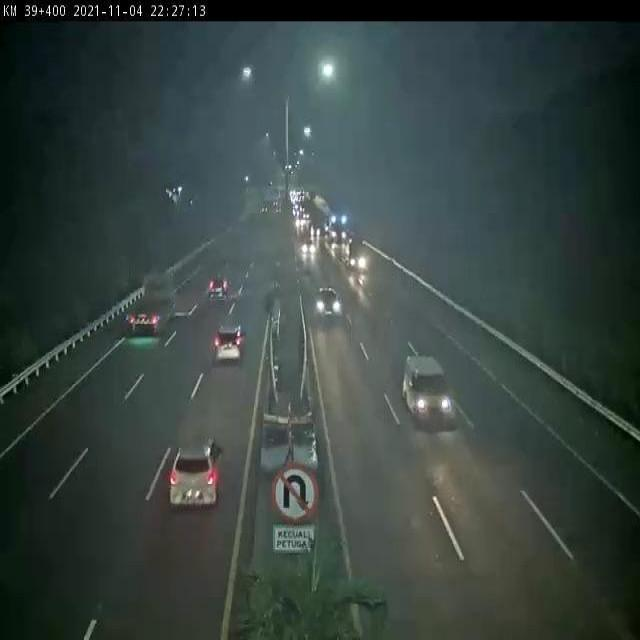car: (167, 434, 225, 510), (402, 351, 456, 429), (212, 322, 246, 362), (312, 283, 342, 325), (206, 274, 229, 298)
truck-m-: (124, 268, 181, 336)
